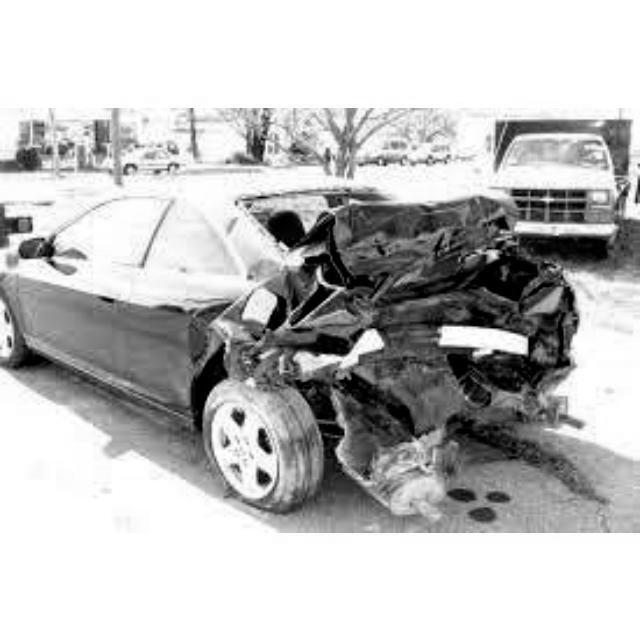boot-dent: (310, 205, 514, 307)
quaterpanel-dent: (219, 284, 337, 370)
